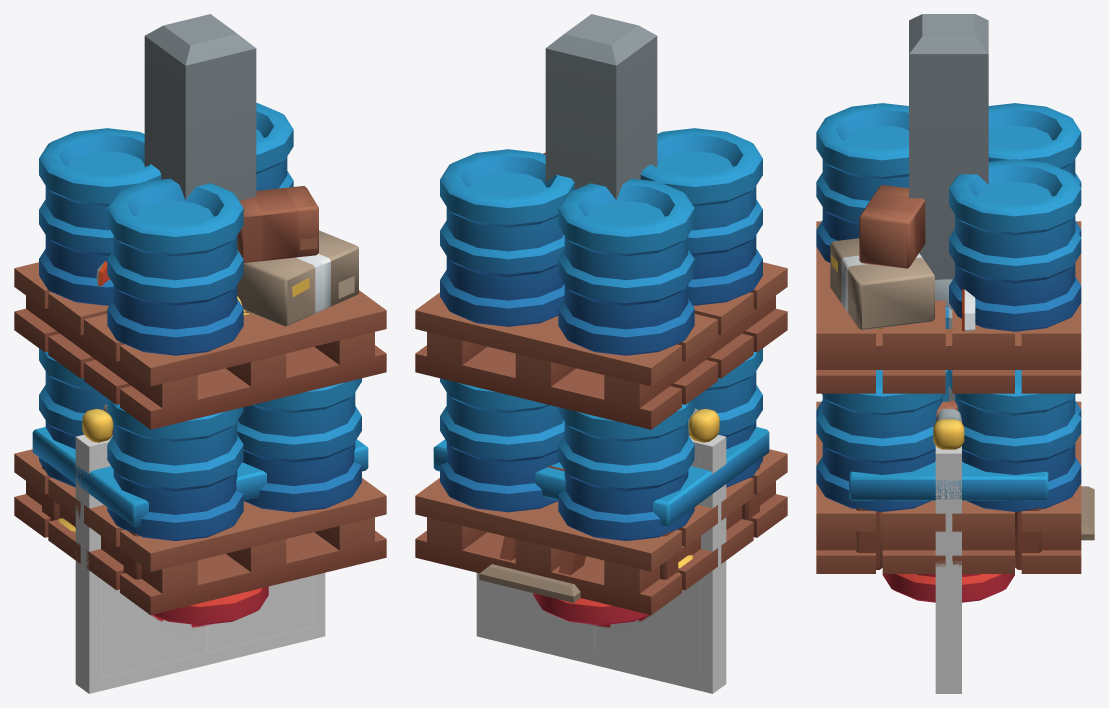
The model's file is prototype.glb.
3 renders of one model, left to right at view 1: azimuth 30°, elevation 25°; view 2: azimuth 150°, elevation 25°; view 3: azimuth 270°, elevation 25°, orthographic. The views are drawn at different scales.
Visible parts, largest first — view 1: Pallet_Small_Decorated_B, Pallet_Small_Decorated_A, target_wall_large_A, Pillar_A, table_medium_Decorated, Barrel_A, Dummy_ArmRight; view 2: Pallet_Small_Decorated_B, Pallet_Small_Decorated_A, target_wall_large_A, Pillar_A, table_medium_Decorated, target_stand_A, Barrel_A, Dummy_ArmRight; view 3: Pallet_Small_Decorated_B, Pallet_Small_Decorated_A, Pillar_A, table_medium_Decorated, target_wall_large_A, Barrel_A, Dummy_ArmLeft, target_stand_A, target_stand_A_Decorated.
Part boxes in pixels (x1=…): Pallet_Small_Decorated_B: x1=14, y1=103, x2=386, y2=429; Pallet_Small_Decorated_A: x1=14, y1=348, x2=386, y2=615; target_wall_large_A: x1=75, y1=435, x2=325, y2=693; Pillar_A: x1=144, y1=14, x2=256, y2=200; table_medium_Decorated: x1=32, y1=404, x2=368, y2=579; Barrel_A: x1=153, y1=586, x2=268, y2=625; Dummy_ArmRight: x1=82, y1=408, x2=113, y2=442; Pallet_Small_Decorated_B: x1=415, y1=128, x2=787, y2=429; Pallet_Small_Decorated_A: x1=415, y1=348, x2=787, y2=615; target_wall_large_A: x1=476, y1=435, x2=726, y2=693; Pillar_A: x1=545, y1=14, x2=657, y2=199; table_medium_Decorated: x1=433, y1=427, x2=769, y2=579; target_stand_A: x1=479, y1=465, x2=585, y2=602; Barrel_A: x1=533, y1=593, x2=648, y2=625; Dummy_ArmRight: x1=688, y1=408, x2=719, y2=442; Pallet_Small_Decorated_B: x1=816, y1=103, x2=1081, y2=393; Pallet_Small_Decorated_A: x1=816, y1=328, x2=1081, y2=573; Pillar_A: x1=909, y1=14, x2=988, y2=279; table_medium_Decorated: x1=849, y1=400, x2=1048, y2=569; target_wall_large_A: x1=935, y1=446, x2=961, y2=693; Barrel_A: x1=882, y1=574, x2=1014, y2=602; Dummy_ArmLeft: x1=933, y1=409, x2=964, y2=449; target_stand_A: x1=942, y1=306, x2=1094, y2=540; target_stand_A_Decorated: x1=962, y1=289, x2=975, y2=393.
Size of the model in its own units: 2 by 5.1 by 2.1.
Materials: 1 (1 with a texture image).
